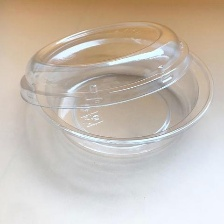plastic_box: (16, 18, 217, 164)
